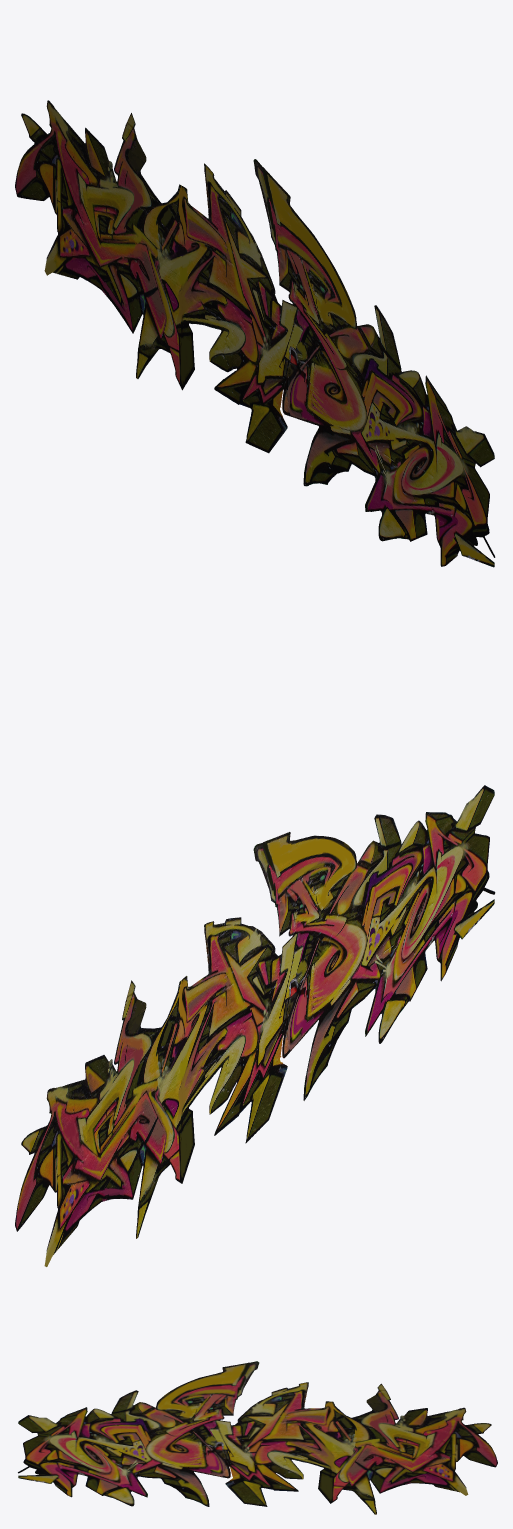
File: SM_Decal10.fbx
3 views of the same model, one above another, from view 1: azimuth 30°, elevation 25°; view 2: azimuth 150°, elevation 25°; view 3: azimuth 270°, elevation 25° (orthographic). The views are drawn at different scales.
Visible parts, largest first — view 1: SM_Decal10_LOD0; view 2: SM_Decal10_LOD0; view 3: SM_Decal10_LOD0.
Boxes of the visible parts, box(x1,y1,x2,y2) form: SM_Decal10_LOD0: box(15, 100, 495, 567); SM_Decal10_LOD0: box(15, 785, 495, 1266); SM_Decal10_LOD0: box(18, 1361, 497, 1514).
Bounding box in the file's own units: 3.83e-05 × 600 × 215.
